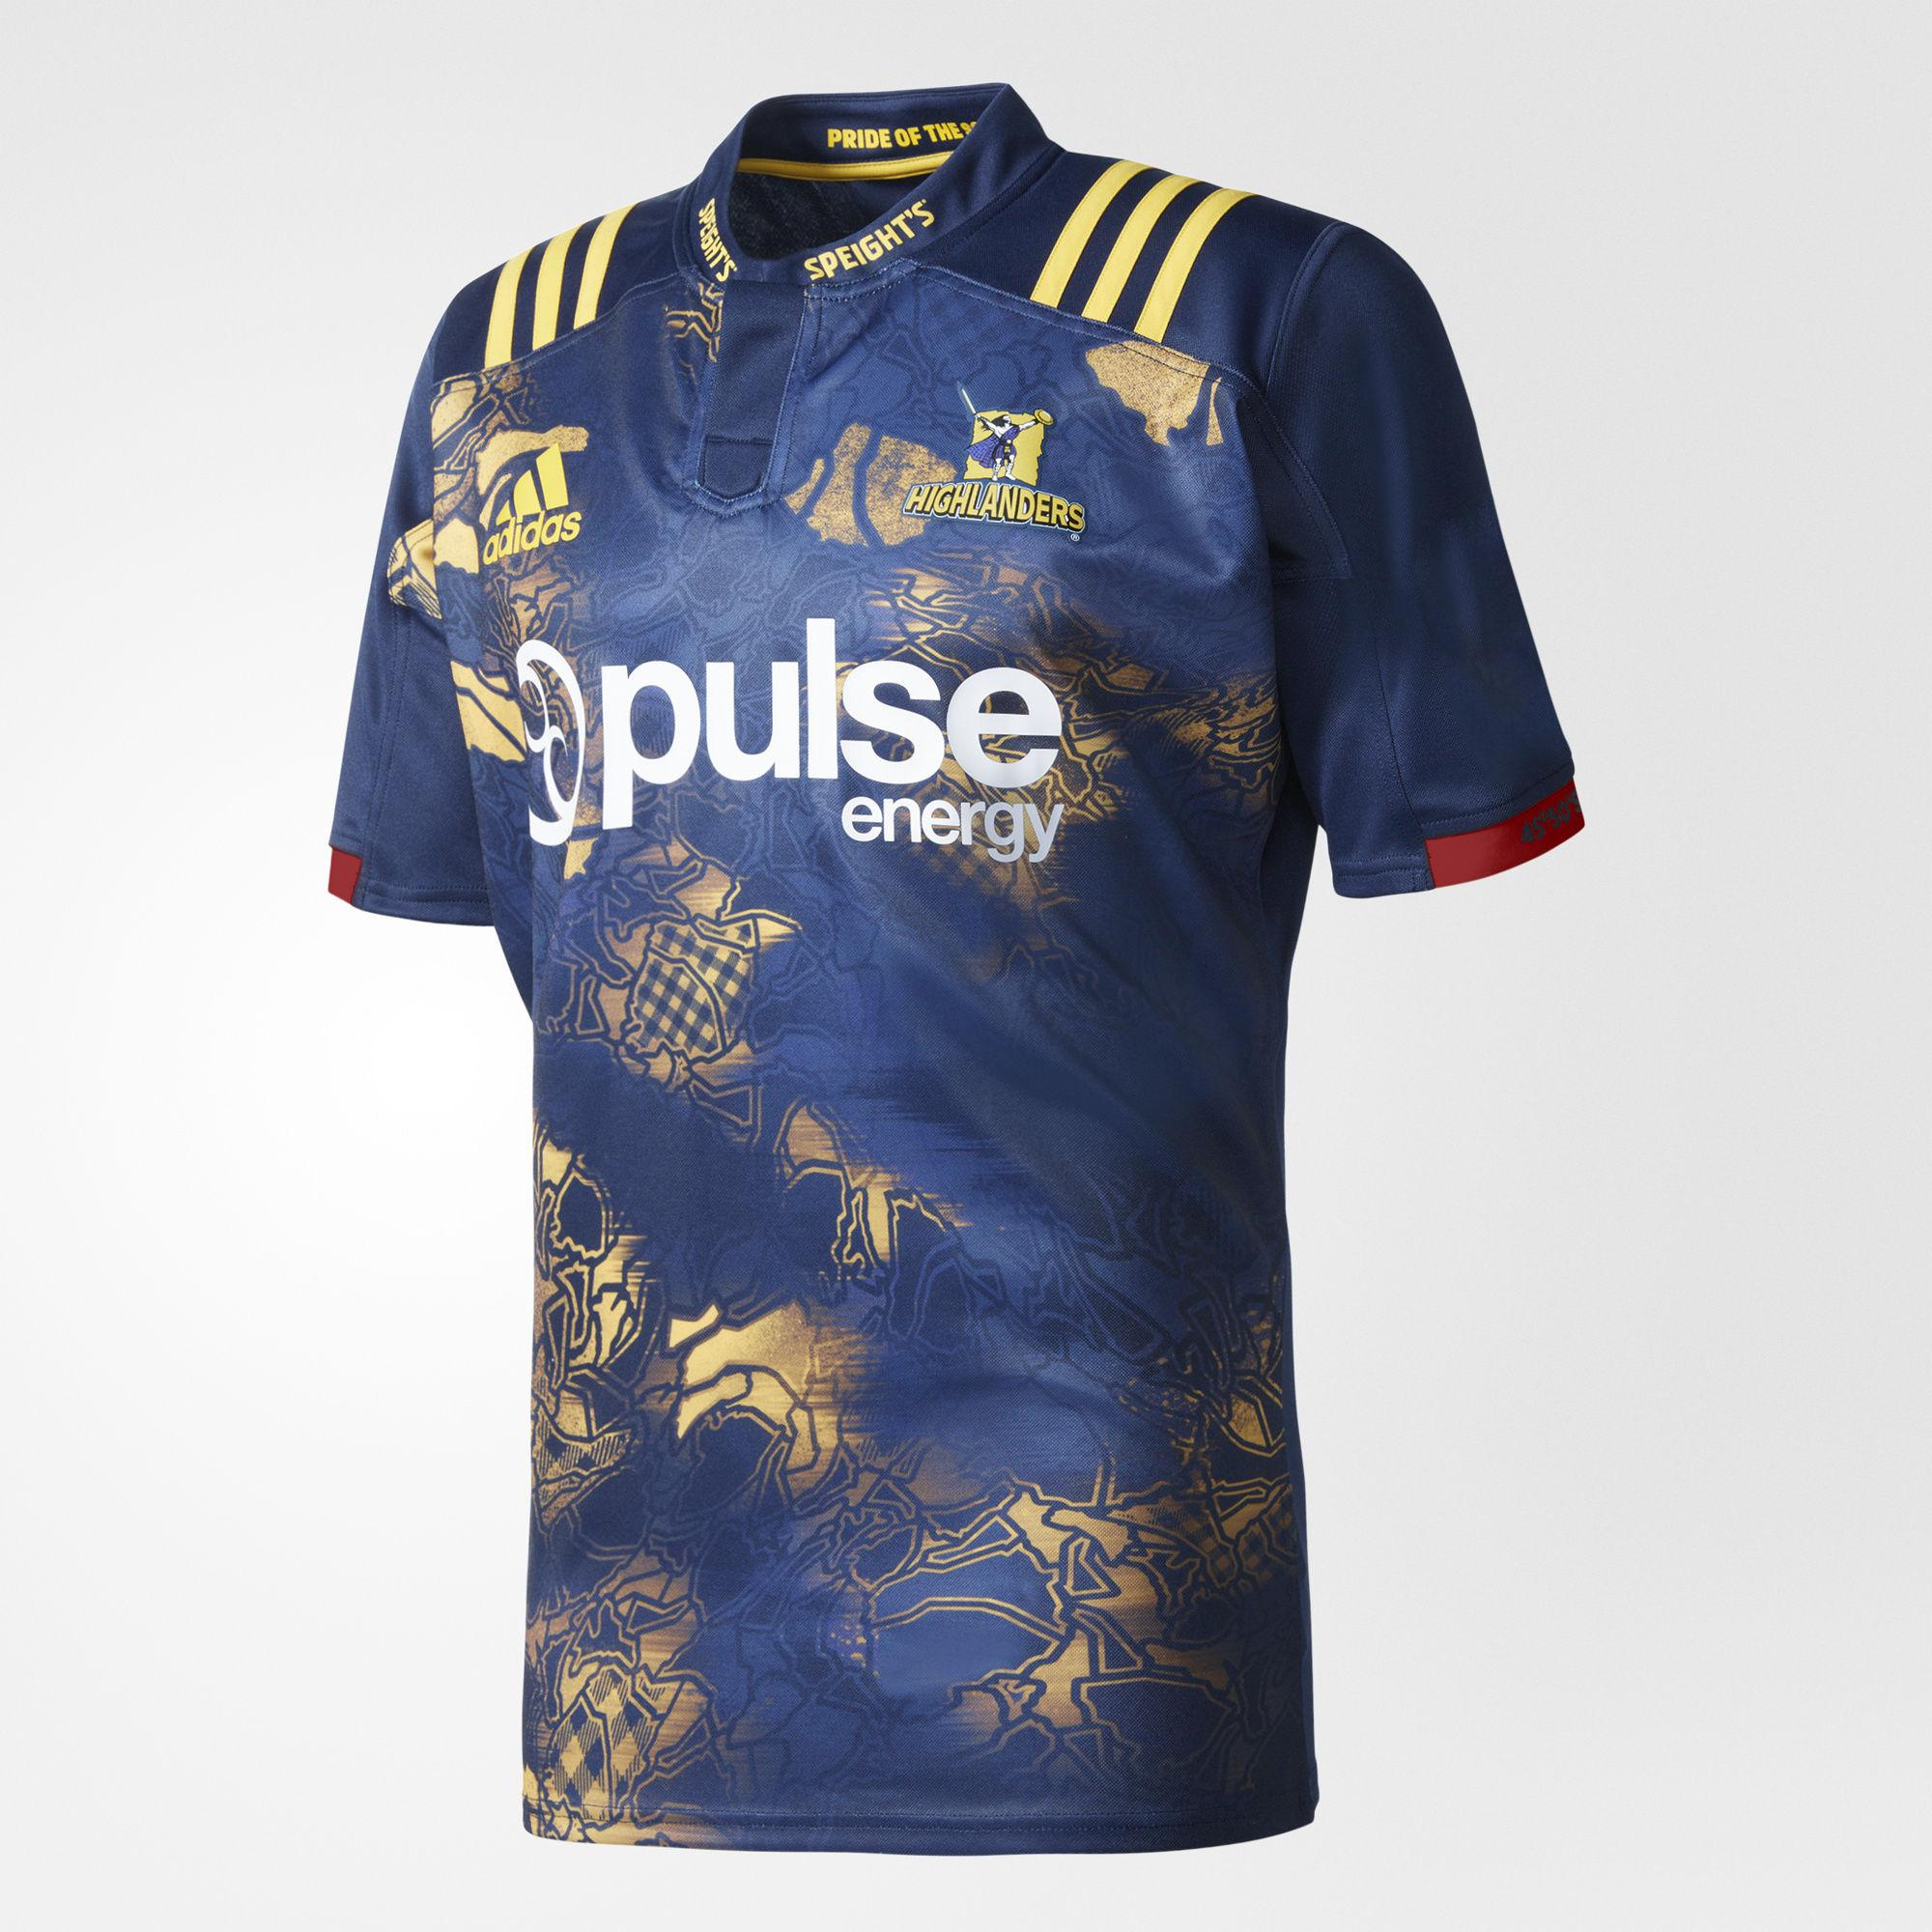teeshirt: (280, 81, 1626, 1872)
